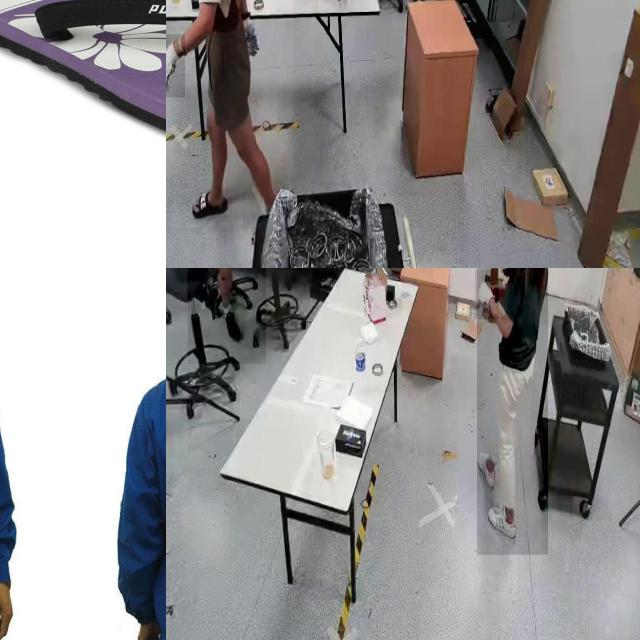Sandals: (0, 0, 166, 153)
hand_glove: (187, 268, 266, 364), (166, 34, 185, 98), (475, 270, 499, 320)
person: (166, 0, 293, 228), (477, 268, 548, 555)
shoes: (218, 300, 248, 347), (486, 502, 519, 540), (475, 448, 501, 491)
